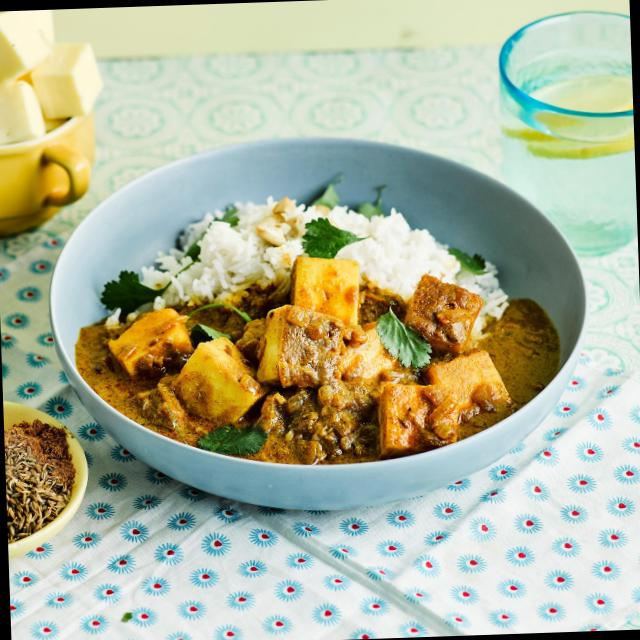rice: (165, 208, 408, 266)
